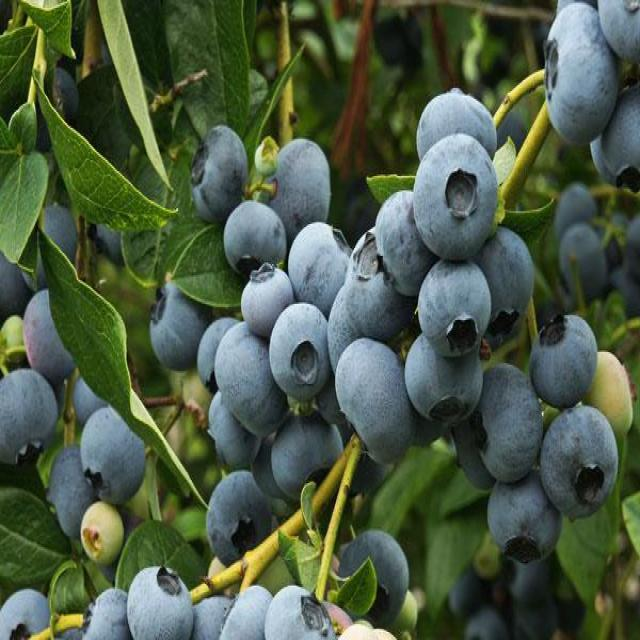BlueBerry - v1: (328, 331, 422, 475), (406, 130, 502, 268), (540, 0, 627, 152), (538, 395, 628, 522), (472, 462, 573, 568), (397, 328, 493, 435), (212, 315, 289, 445), (474, 354, 552, 478), (412, 251, 496, 363), (412, 84, 507, 182), (342, 220, 413, 350), (267, 397, 350, 507), (335, 522, 419, 628), (526, 307, 607, 413), (269, 130, 339, 248), (368, 181, 436, 299), (20, 282, 89, 398), (74, 403, 149, 507), (200, 468, 278, 566), (282, 211, 352, 317), (476, 218, 541, 332), (185, 122, 254, 227), (267, 299, 334, 405), (0, 363, 63, 475), (142, 275, 210, 373), (220, 192, 293, 283), (42, 443, 106, 546), (120, 560, 200, 640), (199, 392, 268, 482), (590, 74, 640, 198), (583, 339, 640, 443), (555, 213, 614, 310), (238, 258, 300, 338), (261, 581, 338, 640), (319, 282, 365, 378), (191, 308, 250, 382), (74, 498, 132, 571), (34, 190, 87, 269), (0, 238, 42, 333), (74, 581, 140, 640), (591, 0, 640, 78), (63, 363, 112, 434), (0, 581, 58, 640), (220, 579, 276, 640), (546, 171, 602, 227), (82, 210, 128, 274), (186, 590, 239, 640), (506, 557, 554, 611), (462, 598, 511, 640)
